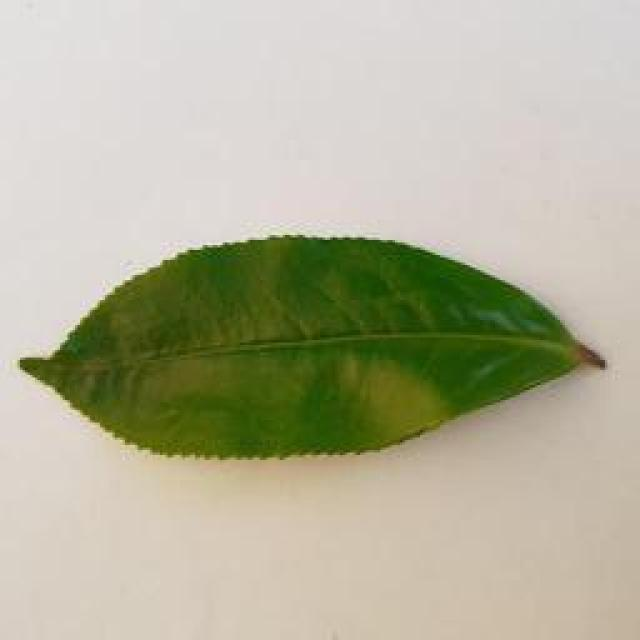Healthy: (20, 222, 640, 482)
